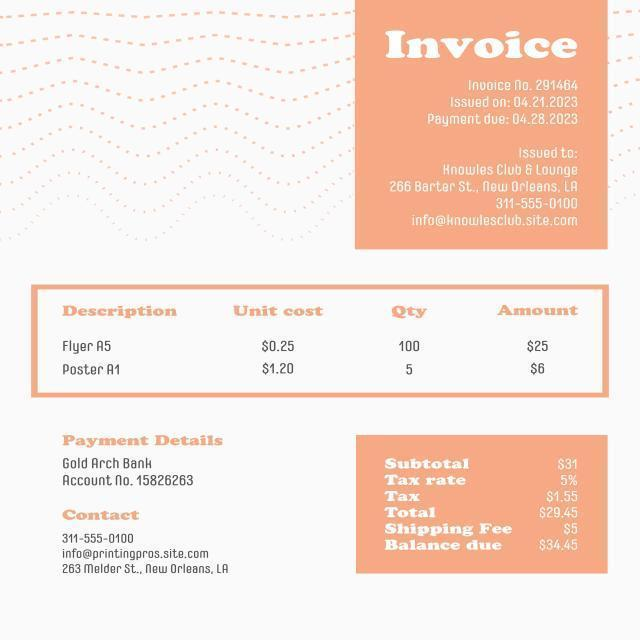ROI: (21, 281, 612, 409), (361, 431, 614, 577), (381, 141, 597, 246), (49, 504, 245, 578), (49, 426, 235, 496), (414, 74, 590, 131), (381, 27, 586, 66)
